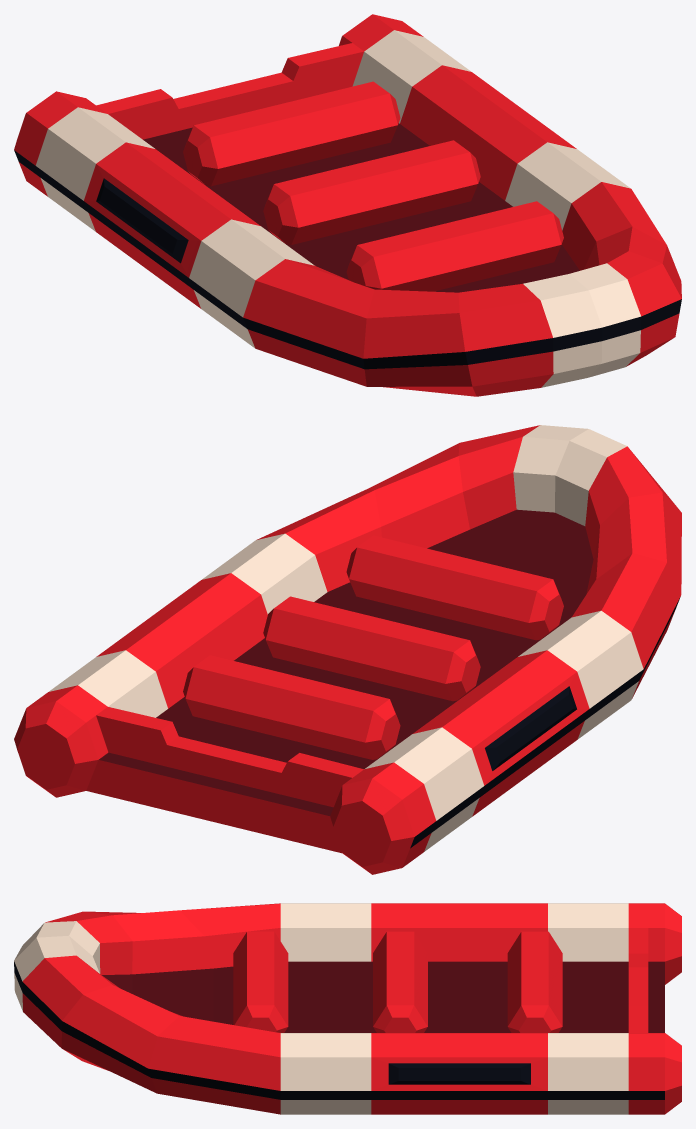
The model's file is lifeboat.glb.
The picture shows the model from 3 angles, top to bottom: view 1: azimuth 30°, elevation 25°; view 2: azimuth 150°, elevation 25°; view 3: azimuth 270°, elevation 25°; orthographic projection. The views are drawn at different scales.
Visible parts, largest first — view 1: lifeboat; view 2: lifeboat; view 3: lifeboat.
Boxes of the visible parts, bbox=[...] form: lifeboat: bbox=[14, 14, 681, 396]; lifeboat: bbox=[14, 425, 681, 874]; lifeboat: bbox=[14, 903, 681, 1114].
Bounding box in the file's own units: 4.07 × 1.32 × 7.
Materials: 1 (1 with a texture image).
